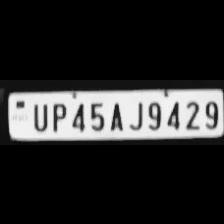2: (182, 98, 200, 130)
4: (162, 96, 182, 130), (68, 99, 86, 131)
5: (86, 97, 104, 130)
9: (142, 96, 162, 130), (200, 97, 220, 129)
A: (106, 97, 126, 130)
J: (126, 96, 144, 130)
P: (47, 99, 67, 130)
U: (29, 99, 49, 131)
